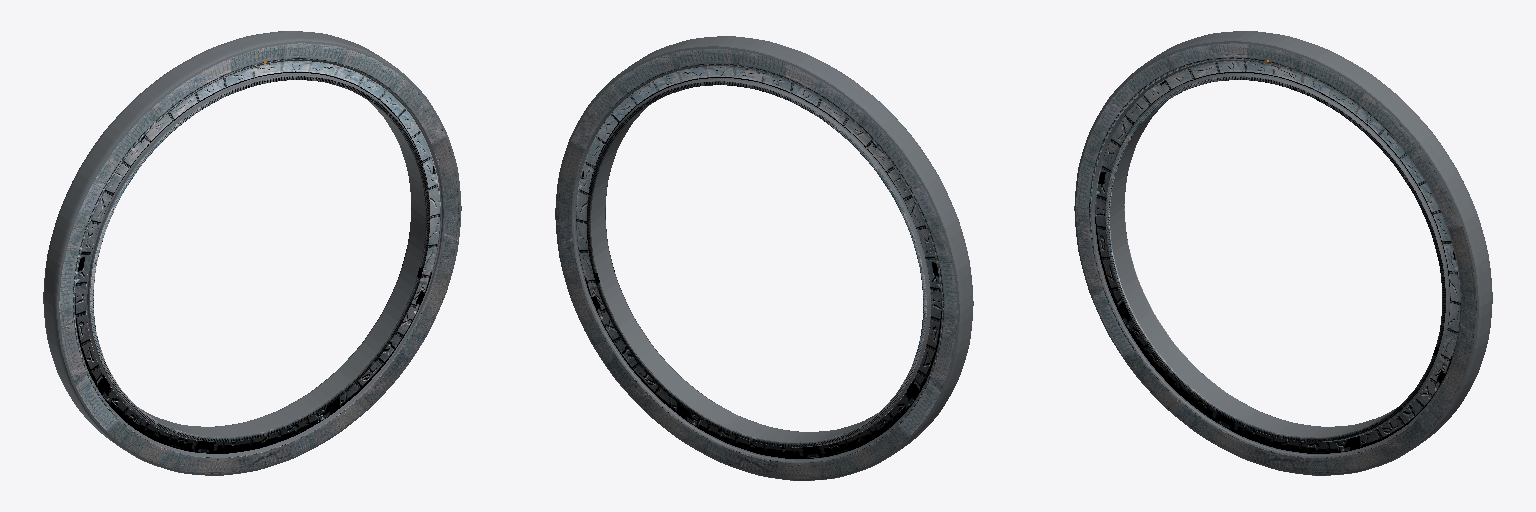
The picture shows the model from 3 angles: view 1: azimuth 30°, elevation 25°; view 2: azimuth 150°, elevation 25°; view 3: azimuth 330°, elevation 25°; orthographic projection.
Parts seen in each view (by area): view 1: Cylinder; view 2: Cylinder; view 3: Cylinder.
Part boxes in pixels (x1,y1,x2,y2): Cylinder: (43, 31, 461, 475); Cylinder: (555, 36, 973, 480); Cylinder: (1074, 31, 1492, 475).
Bounding box in the file's own units: 1.99 × 1.99 × 0.1948.
Materials: 2 (1 with a texture image).